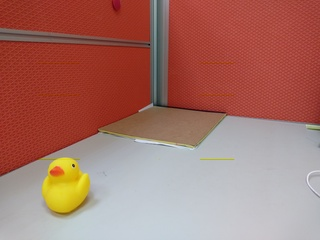duck: (35, 157, 95, 218)
